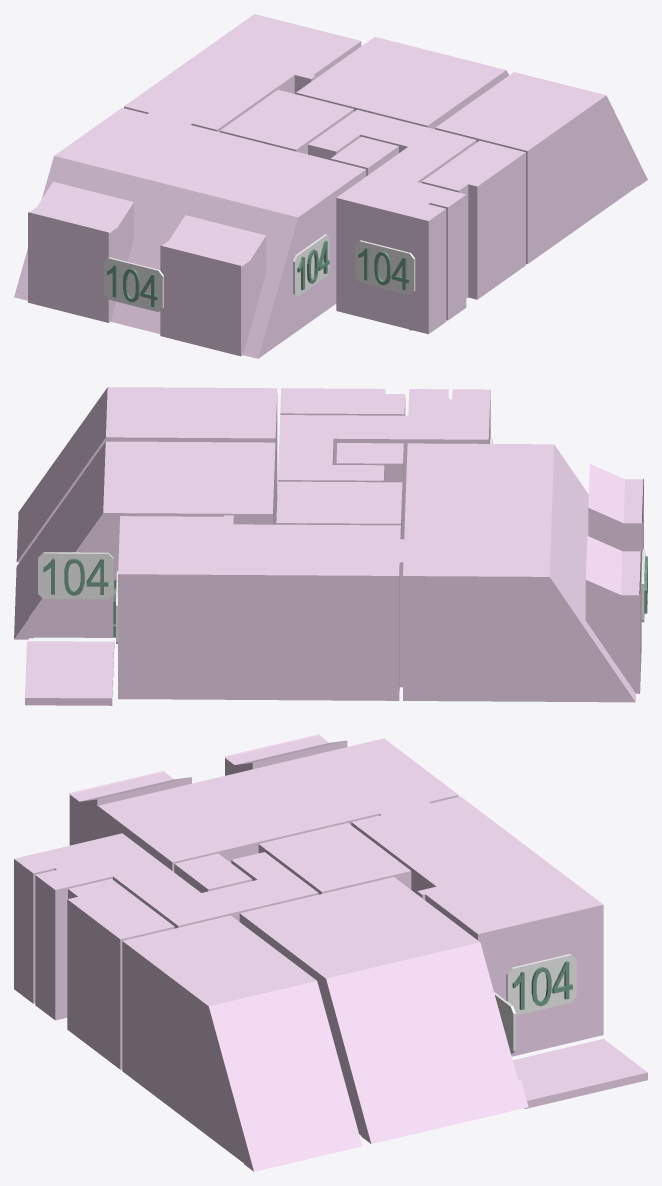
The picture shows the model from 3 angles, top to bottom: view 1: azimuth 30°, elevation 25°; view 2: azimuth 150°, elevation 25°; view 3: azimuth 270°, elevation 25°; orthographic projection. The views are drawn at different scales.
Visible parts, largest first — view 1: g_6, g_4, g_2, g_5, g_1, g_0, g_3, g_16, g_12, g_7, g_20; view 2: g_6, g_5, g_1, g_2, g_4, g_8, g_3, g_0, g_24, g_7; view 3: g_1, g_2, g_6, g_5, g_4, g_0, g_3, g_8, g_28, g_7, g_24.
Boxes of the visible parts, x1,y1,x2,y2 form: g_6: (14, 107, 366, 358); g_4: (308, 109, 476, 334); g_2: (435, 72, 647, 264); g_5: (124, 14, 361, 132); g_1: (296, 37, 508, 129); g_0: (422, 140, 525, 299); g_3: (220, 90, 353, 154); g_16: (355, 240, 415, 294); g_12: (104, 257, 163, 312); g_7: (330, 136, 398, 176); g_20: (293, 234, 329, 297); g_6: (401, 443, 643, 702); g_5: (118, 515, 402, 700); g_1: (14, 441, 275, 639); g_2: (16, 387, 277, 562); g_4: (278, 389, 490, 538); g_8: (25, 641, 114, 705); g_3: (276, 481, 402, 538); g_0: (280, 388, 405, 415); g_24: (38, 552, 113, 599); g_7: (336, 443, 403, 539); g_1: (239, 877, 528, 1144); g_2: (122, 915, 362, 1171); g_6: (69, 734, 458, 871); g_5: (351, 796, 603, 1056); g_4: (14, 833, 318, 1020); g_0: (67, 879, 174, 1069); g_3: (258, 823, 411, 894); g_8: (513, 1039, 647, 1108); g_28: (506, 954, 576, 1015); g_7: (174, 853, 252, 892); g_24: (494, 992, 515, 1054).
Bounding box in the file's own units: 14.04 × 2.71 × 11.21.
